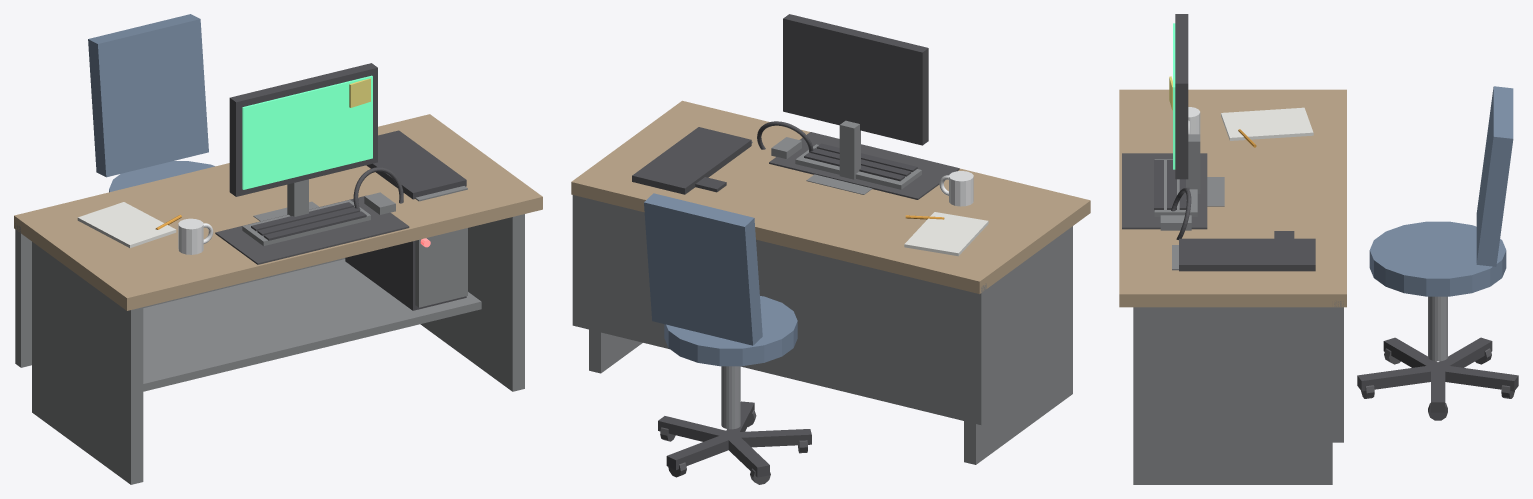
Rendered from computer.glb.
3 views of the same model, side by side, from view 1: azimuth 30°, elevation 25°; view 2: azimuth 150°, elevation 25°; view 3: azimuth 270°, elevation 25° (orthographic). The views are drawn at different scales.
Visible parts, largest first — view 1: CO_desk_top, CO_desk_shelf, CO_desk_leg_-0.78, CO_chair_back, CO_mon_screen, CO_desk_leg_0.78, CO_tower, CO_mon_frame, CO_tower_front, CO_desk_mat, CO_desk_back, CO_papers (+7 smaller); view 2: CO_desk_back, CO_desk_top, CO_desk_leg_-0.78, CO_mon_frame, CO_chair_back, CO_chair_seat, CO_tower, CO_desk_mat, CO_papers, CO_desk_leg_0.78, CO_chair_pole, CO_mon_neck (+8 smaller); view 3: CO_desk_leg_0.78, CO_desk_top, CO_chair_seat, CO_tower, CO_chair_back, CO_desk_mat, CO_papers, CO_mon_frame, CO_desk_back, CO_chair_pole, CO_chair_arm_1, CO_chair_arm_4 (+9 smaller).
Part boxes in pixels (left/top/right/bottom): CO_desk_top: left=14, top=114, right=542, bottom=310; CO_desk_shelf: left=143, top=259, right=481, bottom=391; CO_desk_leg_-0.78: left=32, top=242, right=143, bottom=484; CO_chair_back: left=88, top=14, right=208, bottom=177; CO_mon_screen: left=242, top=75, right=372, bottom=189; CO_desk_leg_0.78: left=420, top=214, right=524, bottom=391; CO_tower: left=345, top=130, right=466, bottom=310; CO_mon_frame: left=229, top=63, right=377, bottom=196; CO_tower_front: left=415, top=186, right=467, bottom=307; CO_desk_mat: left=215, top=195, right=409, bottom=264; CO_desk_back: left=15, top=223, right=345, bottom=367; CO_papers: left=77, top=202, right=176, bottom=247; CO_desk_back: left=572, top=195, right=986, bottom=424; CO_desk_top: left=571, top=100, right=1090, bottom=293; CO_desk_leg_-0.78: left=964, top=226, right=1072, bottom=464; CO_mon_frame: left=783, top=14, right=928, bottom=145; CO_chair_back: left=644, top=193, right=762, bottom=345; CO_chair_seat: left=664, top=296, right=797, bottom=366; CO_tower: left=632, top=127, right=751, bottom=194; CO_desk_mat: left=769, top=132, right=959, bottom=199; CO_papers: left=904, top=212, right=988, bottom=256; CO_desk_leg_0.78: left=589, top=329, right=642, bottom=373; CO_chair_pole: left=721, top=366, right=740, bottom=429; CO_mon_neck: left=839, top=120, right=860, bottom=179; CO_desk_leg_0.78: left=1133, top=307, right=1332, bottom=484; CO_desk_top: left=1119, top=89, right=1346, bottom=307; CO_chair_seat: left=1369, top=221, right=1506, bottom=296; CO_tower: left=1179, top=238, right=1315, bottom=271; CO_chair_back: left=1476, top=86, right=1513, bottom=266; CO_desk_mat: left=1122, top=153, right=1207, bottom=229; CO_papers: left=1221, top=107, right=1313, bottom=140; CO_mon_frame: left=1175, top=14, right=1188, bottom=179; CO_desk_back: left=1332, top=301, right=1343, bottom=442; CO_chair_pole: left=1428, top=296, right=1447, bottom=361; CO_chair_arm_1: left=1433, top=366, right=1518, bottom=391; CO_chair_arm_4: left=1357, top=366, right=1436, bottom=391.
Size of the model in its own units: 1.7 by 1.31 by 1.4.
